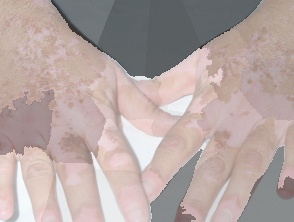vitiligo: (0, 16, 189, 205), (148, 3, 294, 189)
